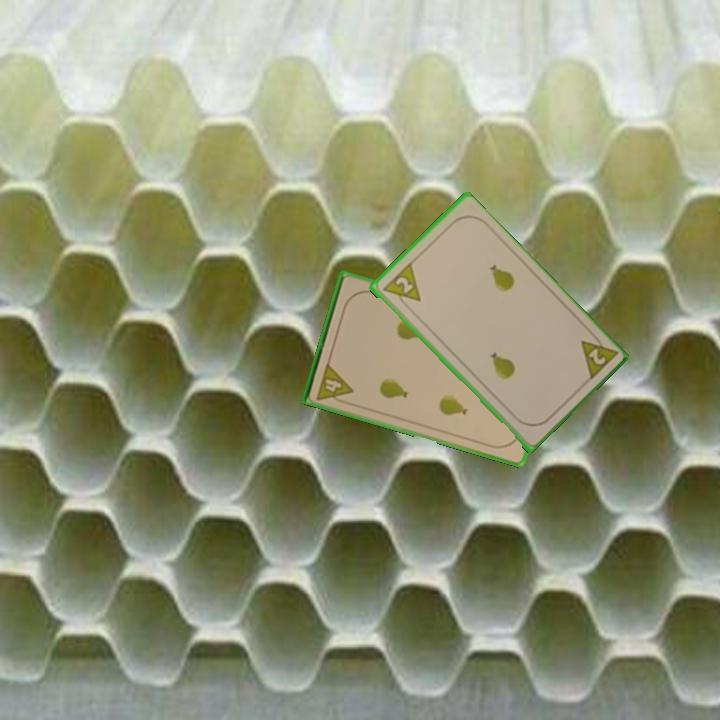2p: (577, 327, 619, 384), (391, 273, 416, 296)
4p: (313, 359, 356, 407)
